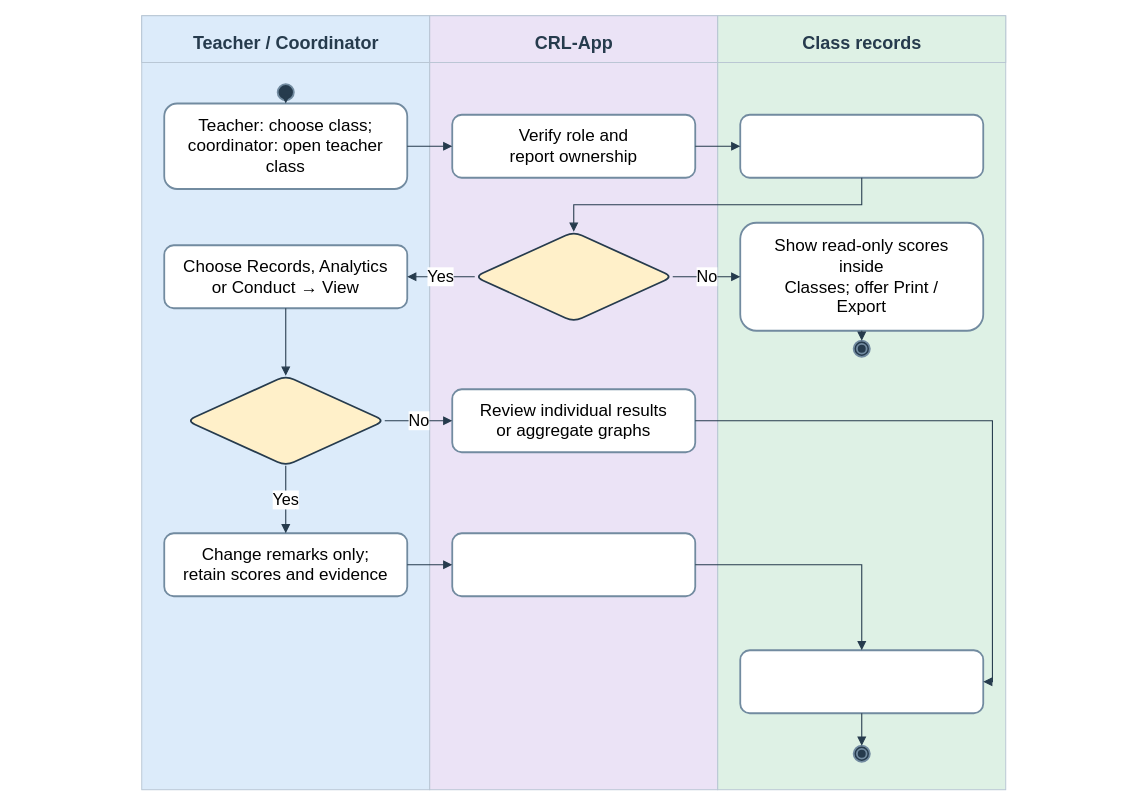
The diagram is 1147 pixels wide and 806 high, and some of its shapes have lost their labels. Here are the shapes that lost their labels. From the top down, the centre of each, then its label:
At pixel 861 145: "Read enrolled roster and matching results".
At pixel 573 276: "Owning teacher?".
At pixel 285 420: "Edit remarks?".
At pixel 573 564: "Save remarks or queue locally".
At pixel 861 681: "Print or export selected-class report".
